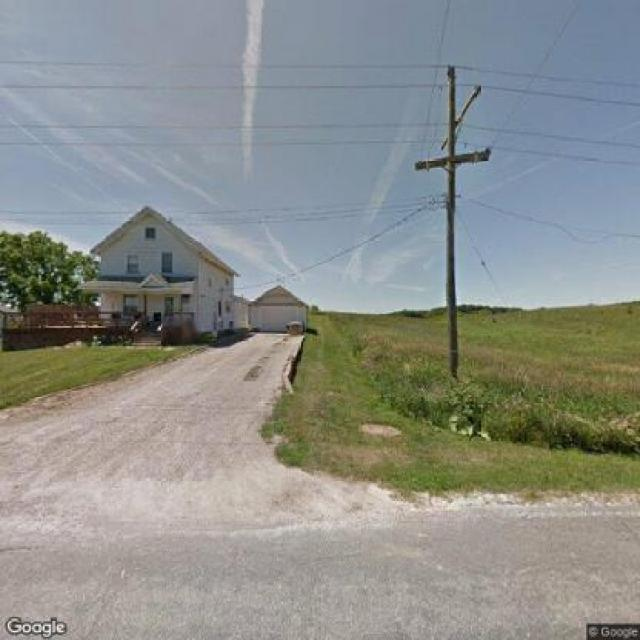pole: (408, 61, 497, 372)
